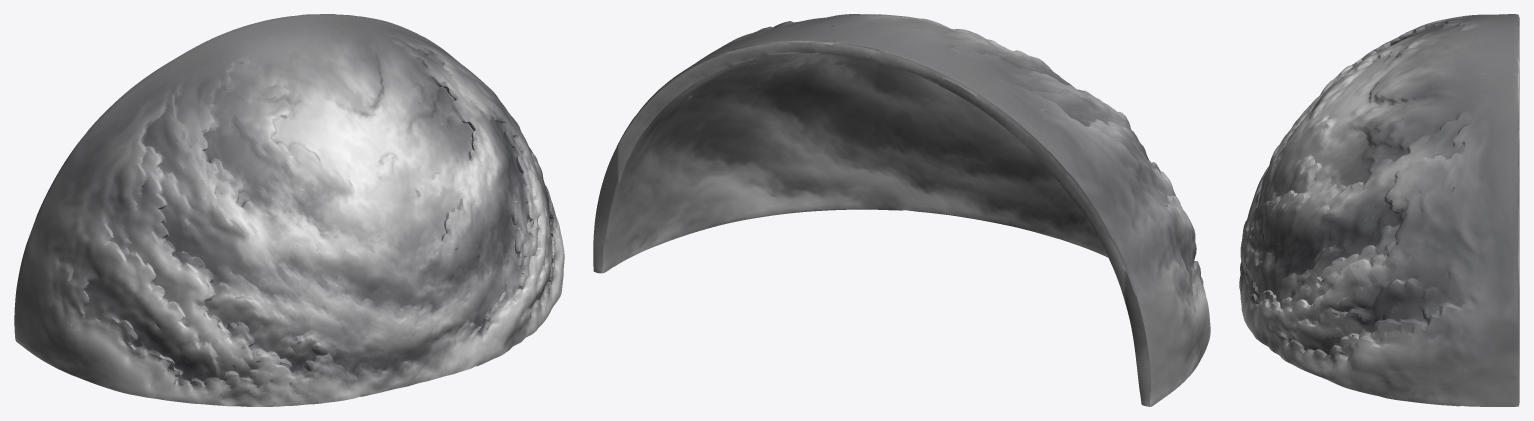
File: FogDomeBackdropQuads.glb
3 views of the same model, side by side, from view 1: azimuth 30°, elevation 25°; view 2: azimuth 150°, elevation 25°; view 3: azimuth 270°, elevation 25° (orthographic). The views are drawn at different scales.
Visible parts, largest first — view 1: output; view 2: output; view 3: output.
Part boxes in pixels (left/top/right/bottom): output: left=14, top=14, right=564, bottom=406; output: left=593, top=14, right=1210, bottom=406; output: left=1239, top=14, right=1519, bottom=406.
Size of the model in its own units: 1.9 by 0.9482 by 0.9688.
Materials: 1 (1 with a texture image).
